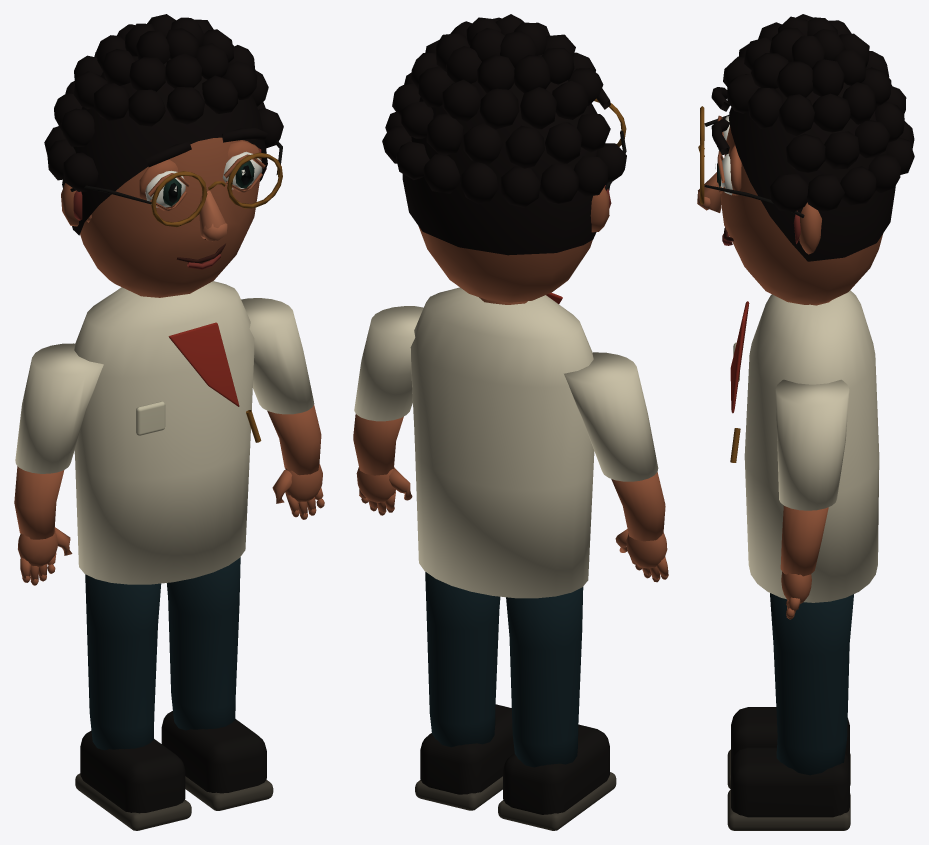
File: receptionist-02.glb
3 renders of one model, left to right at view 1: azimuth 30°, elevation 25°; view 2: azimuth 150°, elevation 25°; view 3: azimuth 270°, elevation 25°, orthographic.
Visible parts, largest first — view 1: Head, Body, LegL, LegR, ArmL, ArmR; view 2: Head, Body, LegL, LegR, ArmL, ArmR; view 3: Head, Body, LegR, ArmR, LegL.
Boxes of the visible parts, box(x1,y1,x2,y2) form: Head: box(44, 14, 283, 297); Body: box(74, 281, 261, 584); LegL: box(75, 574, 191, 830); LegR: box(161, 557, 273, 810); ArmL: box(14, 343, 103, 585); ArmR: box(241, 298, 324, 519); Head: box(382, 14, 626, 304); Body: box(410, 287, 594, 598); LegL: box(498, 586, 616, 830); LegR: box(415, 572, 514, 810); ArmL: box(564, 352, 668, 582); ArmR: box(353, 306, 423, 515); Head: box(697, 14, 914, 305); Body: box(730, 290, 879, 602); LegR: box(727, 593, 853, 830); ArmR: box(775, 379, 849, 619); LegL: box(727, 707, 850, 789).
Bounding box in the file's own units: 0.6256 × 1.51 × 0.3859.
